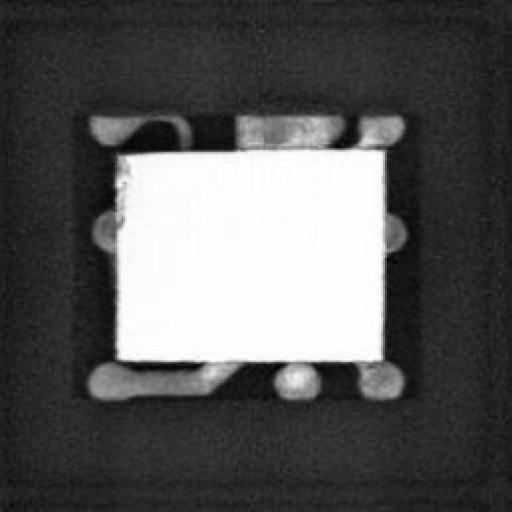DIE_INK: (113, 156, 129, 230)
